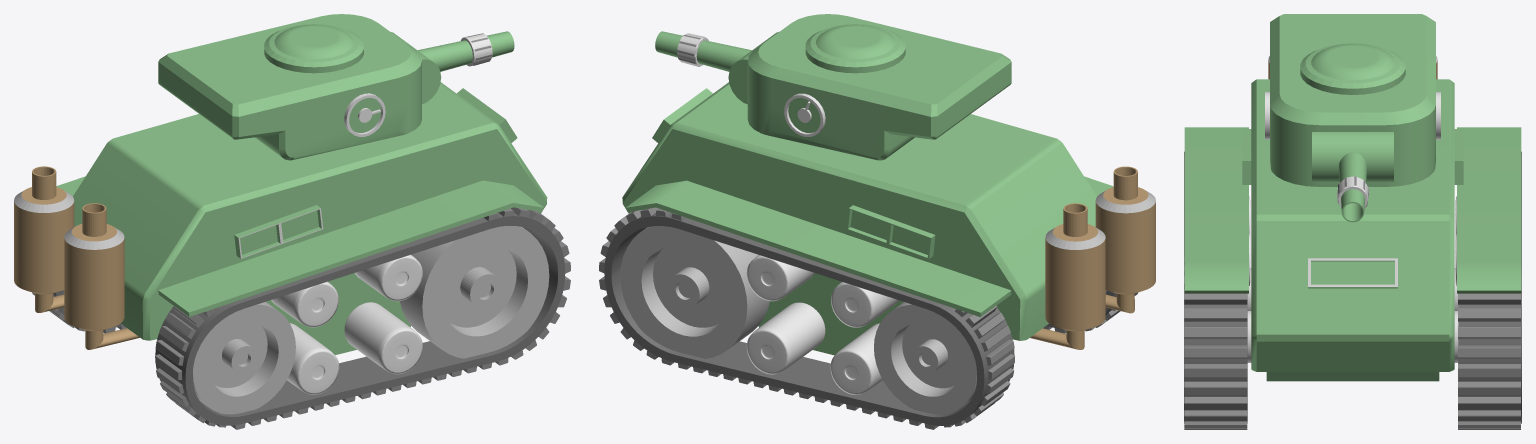
File: green_tank_reModeled.fbx
3 views of the same model, side by side, from view 1: azimuth 30°, elevation 25°; view 2: azimuth 150°, elevation 25°; view 3: azimuth 270°, elevation 25° (orthographic). The views are drawn at different scales.
Visible parts, largest first — view 1: R_tire, tank_body, turrent, fuel_tank, main_gun, clock, main_gun_pivot, pCube69; view 2: pCube69, tank_body, turrent, fuel_tank, main_gun, clock, main_gun_pivot, R_tire; view 3: tank_body, turrent, R_tire, pCube69, main_gun_pivot, main_gun, clock.
Part boxes in pixels (left/top/right/bottom): R_tire: left=155, top=180, right=570, bottom=429; tank_body: left=73, top=82, right=547, bottom=354; turrent: left=158, top=14, right=421, bottom=160; fuel_tank: left=14, top=166, right=139, bottom=349; main_gun: left=418, top=31, right=514, bottom=71; clock: left=344, top=93, right=385, bottom=136; main_gun_pivot: left=391, top=32, right=441, bottom=104; pCube69: left=32, top=176, right=126, bottom=333; pCube69: left=599, top=180, right=1014, bottom=429; tank_body: left=622, top=82, right=1096, bottom=355; turrent: left=747, top=14, right=1011, bottom=160; fuel_tank: left=1030, top=166, right=1155, bottom=349; main_gun: left=655, top=31, right=751, bottom=71; clock: left=784, top=93, right=825, bottom=136; main_gun_pivot: left=728, top=32, right=778, bottom=104; R_tire: left=1043, top=176, right=1137, bottom=333; tank_body: left=1242, top=79, right=1463, bottom=381; turrent: left=1270, top=14, right=1435, bottom=186; R_tire: left=1184, top=127, right=1251, bottom=429; pCube69: left=1454, top=127, right=1521, bottom=429; main_gun_pivot: left=1312, top=132, right=1393, bottom=182; main_gun: left=1336, top=152, right=1368, bottom=222; clock: left=1265, top=92, right=1440, bottom=139.
Size of the model in its own units: 10.7 by 6.49 by 6.38.
